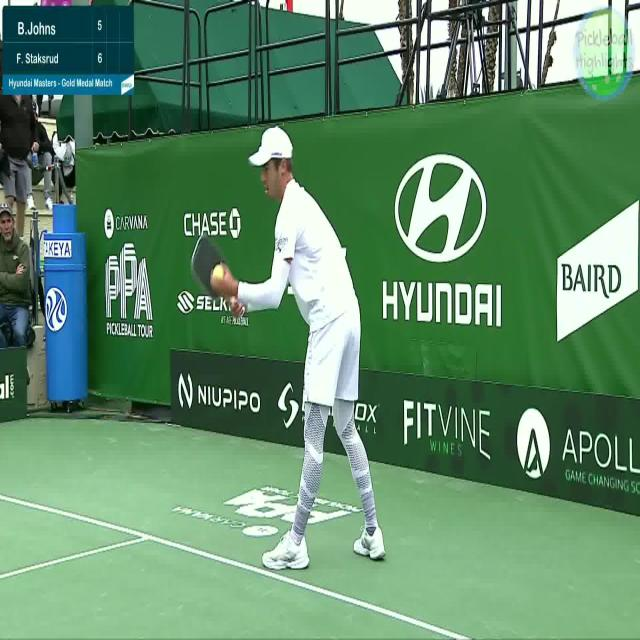ball: (210, 264, 225, 292)
